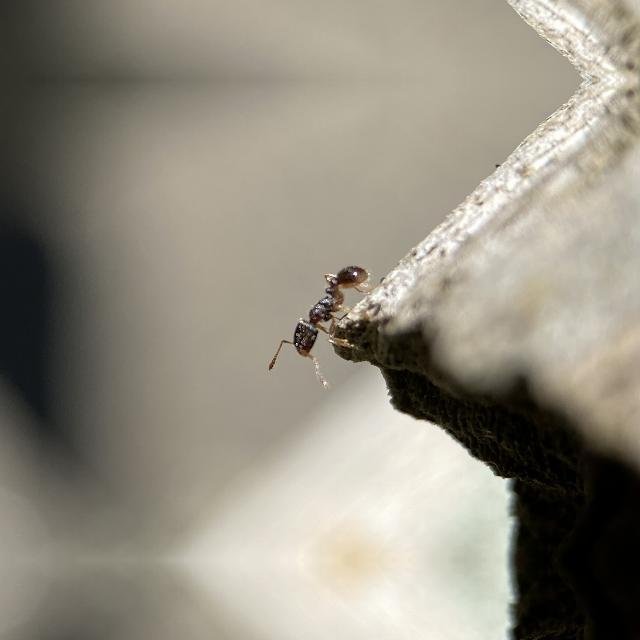Tetramorium: (287, 248, 363, 366)
